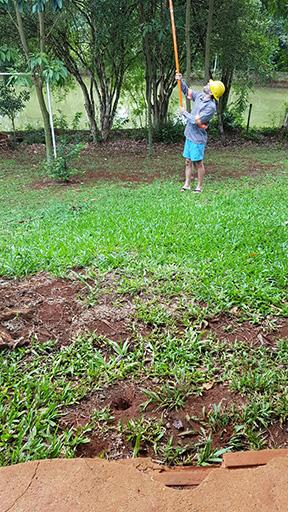Capacete: (204, 78, 225, 103)
Vara_Manobra: (167, 1, 184, 116)
